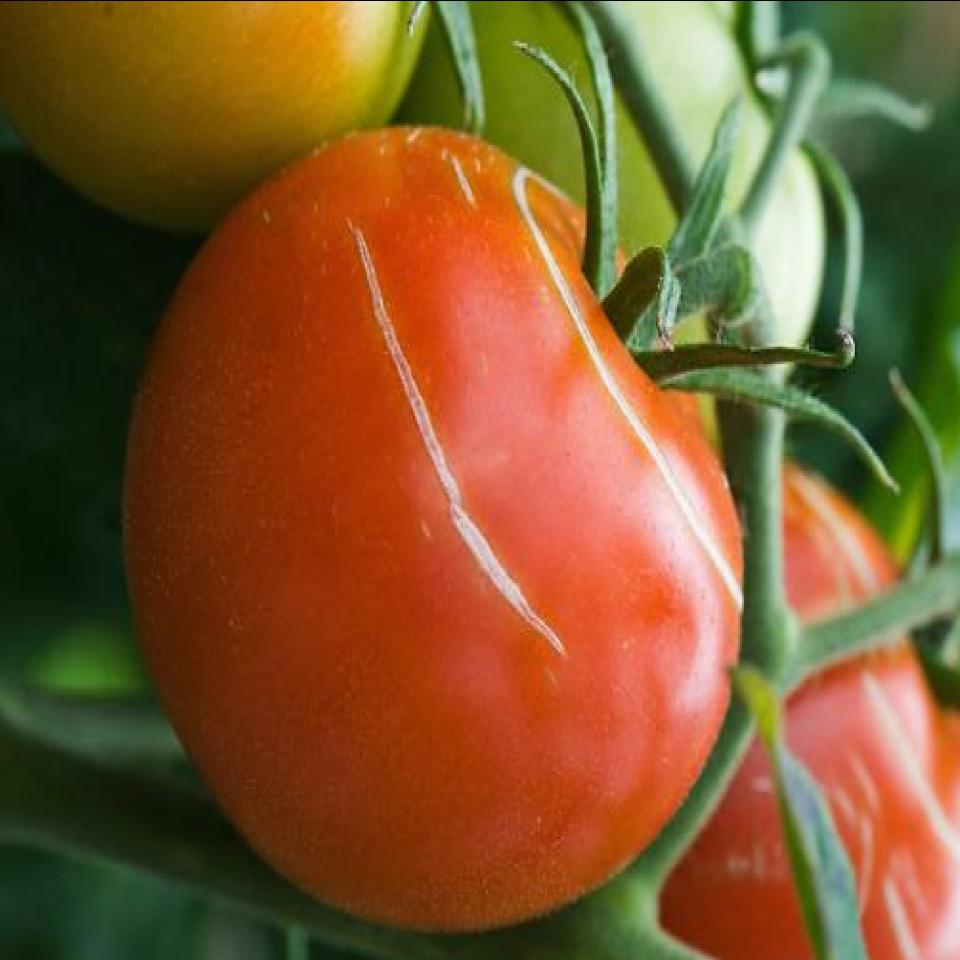Cracking: (344, 208, 582, 668), (504, 156, 744, 608), (857, 656, 960, 863), (784, 448, 900, 594), (880, 855, 943, 960)
